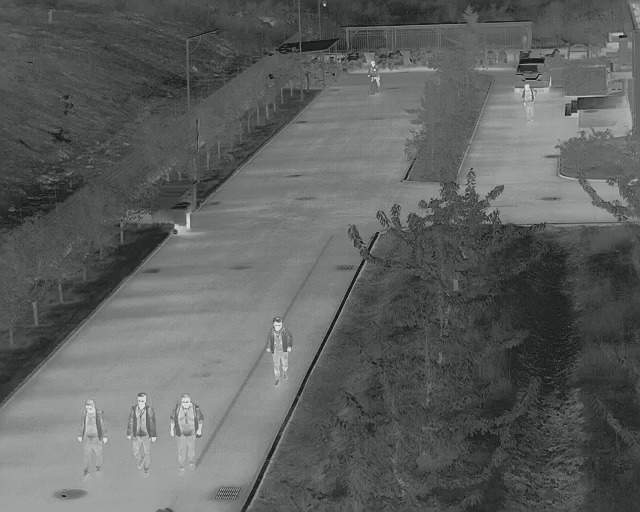NonMotorVehicle: (365, 60, 381, 96)
person: (124, 392, 157, 473), (168, 395, 203, 471), (76, 398, 106, 478), (265, 314, 292, 386), (519, 83, 535, 123)
vehicle: (512, 57, 551, 92)
